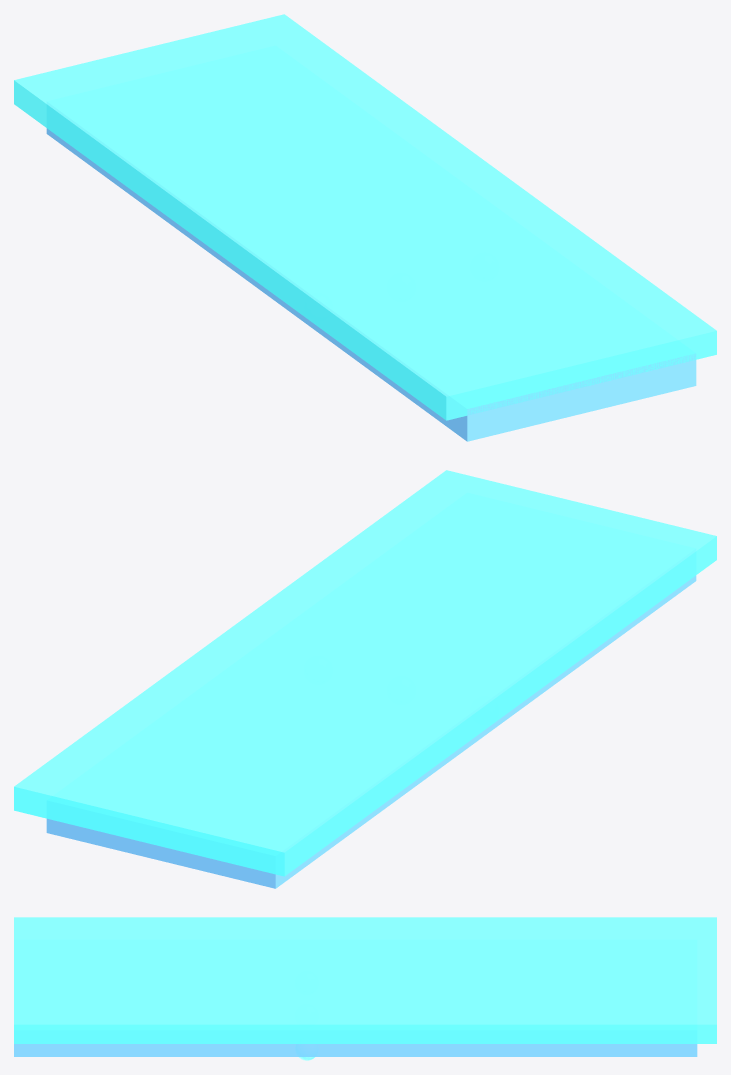
The model's file is 22_Floating_Island_Waterfall.glb.
3 views of the same model, one above another, from view 1: azimuth 30°, elevation 25°; view 2: azimuth 150°, elevation 25°; view 3: azimuth 270°, elevation 25° (orthographic). The views are drawn at different scales.
Visible parts, largest first — view 1: 22_Floating_Island_Waterfall_01, 22_Floating_Island_Waterfall_00; view 2: 22_Floating_Island_Waterfall_01, 22_Floating_Island_Waterfall_00; view 3: 22_Floating_Island_Waterfall_01, 22_Floating_Island_Waterfall_00.
Boxes of the visible parts, x1,y1,x2,y2 form: 22_Floating_Island_Waterfall_01: [14, 14, 716, 420]; 22_Floating_Island_Waterfall_00: [46, 128, 696, 441]; 22_Floating_Island_Waterfall_01: [14, 470, 716, 876]; 22_Floating_Island_Waterfall_00: [46, 575, 696, 888]; 22_Floating_Island_Waterfall_01: [14, 917, 716, 1043]; 22_Floating_Island_Waterfall_00: [14, 1044, 697, 1056].
Bounding box in the file's own units: 2.6 × 0.63 × 7.2.
